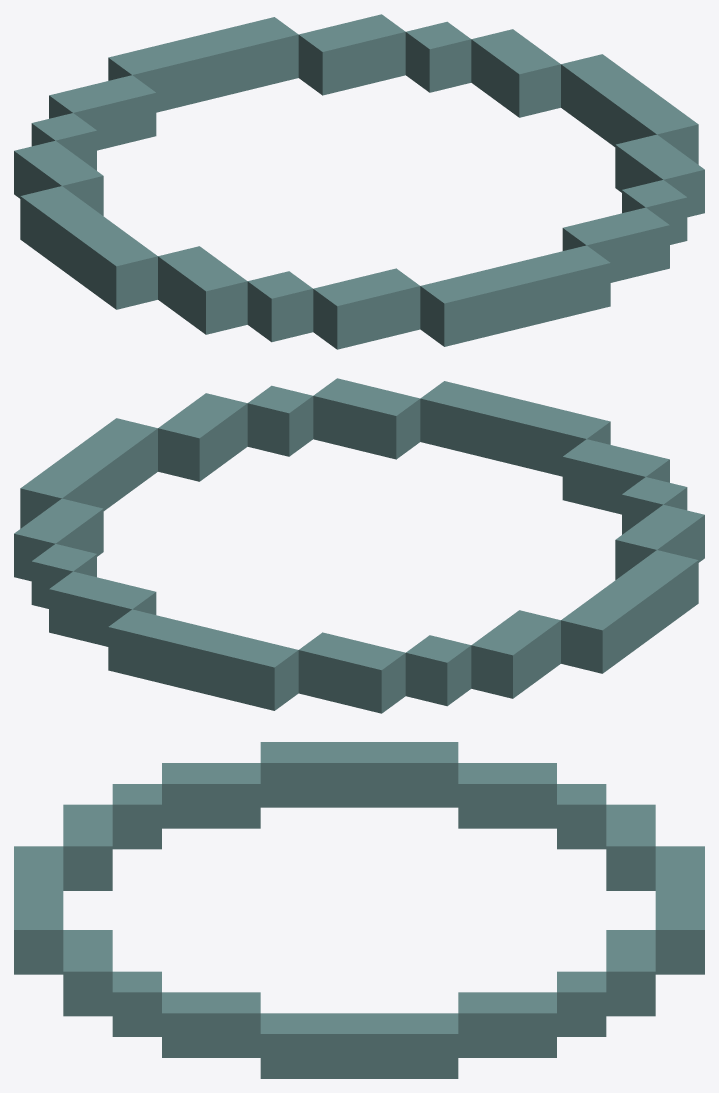
The model's file is Crystal_Ring_2.dae.
The picture shows the model from 3 angles, top to bottom: view 1: azimuth 30°, elevation 25°; view 2: azimuth 150°, elevation 25°; view 3: azimuth 270°, elevation 25°; orthographic projection. The views are drawn at different scales.
Parts seen in each view (by area): view 1: Crystal_Ring_2; view 2: Crystal_Ring_2; view 3: Crystal_Ring_2.
Boxes of the visible parts, left/top/right/bottom form: Crystal_Ring_2: left=14, top=14, right=704, bottom=349; Crystal_Ring_2: left=14, top=378, right=704, bottom=713; Crystal_Ring_2: left=14, top=742, right=704, bottom=1078.
Size of the model in its own units: 0.35 by 0.35 by 0.025.
